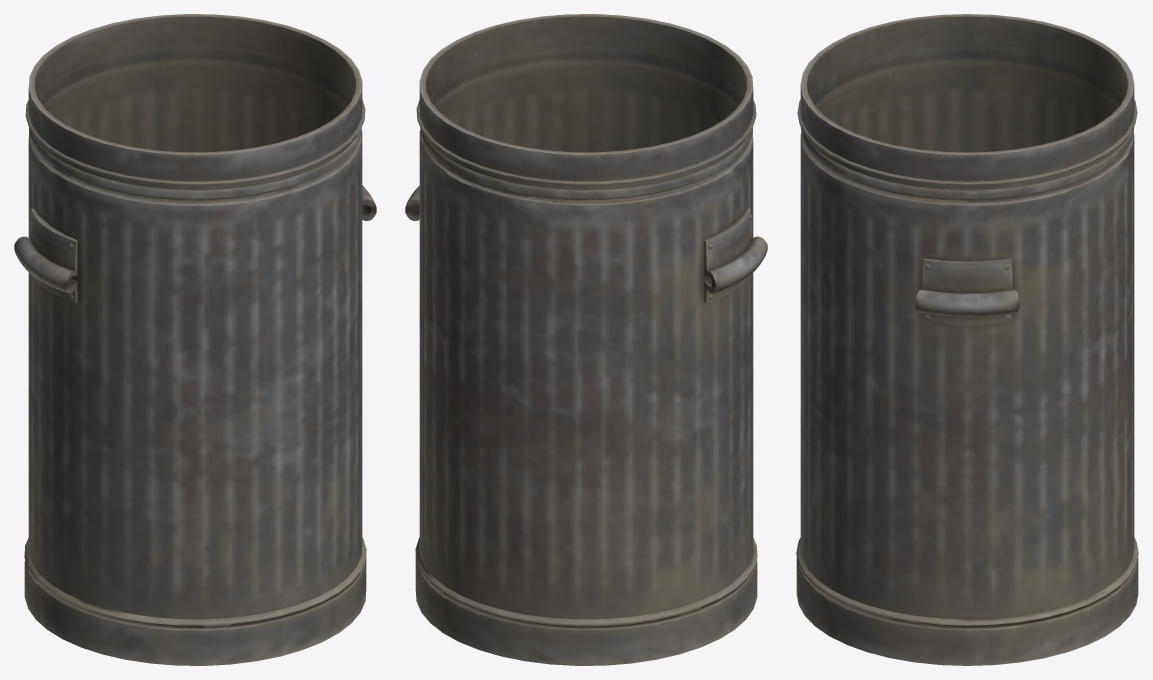
Rendered from bin_metal.glb.
The picture shows the model from 3 angles, left to right: view 1: azimuth 30°, elevation 25°; view 2: azimuth 150°, elevation 25°; view 3: azimuth 270°, elevation 25°; orthographic projection.
Visible parts, largest first — view 1: mesh; view 2: mesh; view 3: mesh.
Part boxes in pixels (<box>): mesh: <box>14,14,376,665</box>; mesh: <box>405,14,767,665</box>; mesh: <box>796,14,1138,665</box>.
Size of the model in its own units: 0.6134 by 0.9062 by 0.5524.
Materials: 1 (1 with a texture image).
